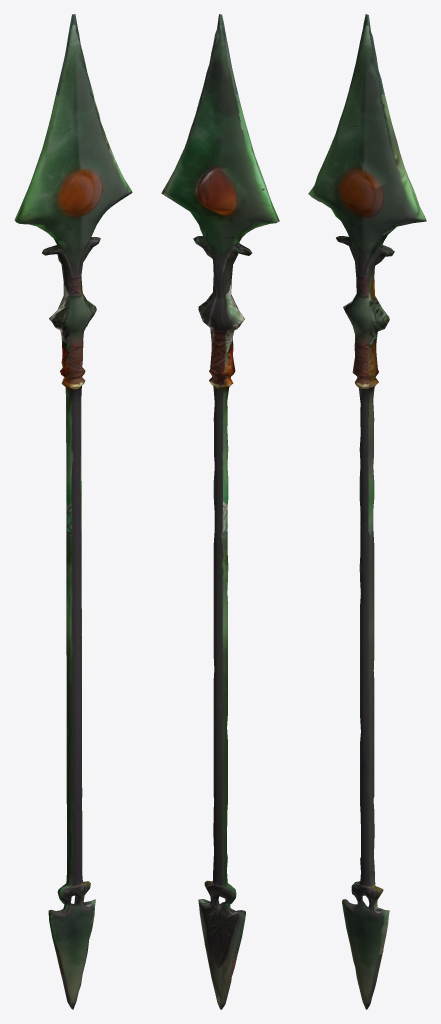
File: 1597_spear.glb
3 views of the same model, side by side, from view 1: azimuth 30°, elevation 25°; view 2: azimuth 150°, elevation 25°; view 3: azimuth 330°, elevation 25° (orthographic).
Visible parts, largest first — view 1: Model; view 2: Model; view 3: Model.
Boxes of the visible parts, x1,y1,x2,y2 form: Model: [14, 14, 132, 1009]; Model: [161, 14, 279, 1009]; Model: [308, 14, 426, 1009].
Size of the model in its own units: 0.1232 by 1 by 0.0268.
1 material, 1 textured.
